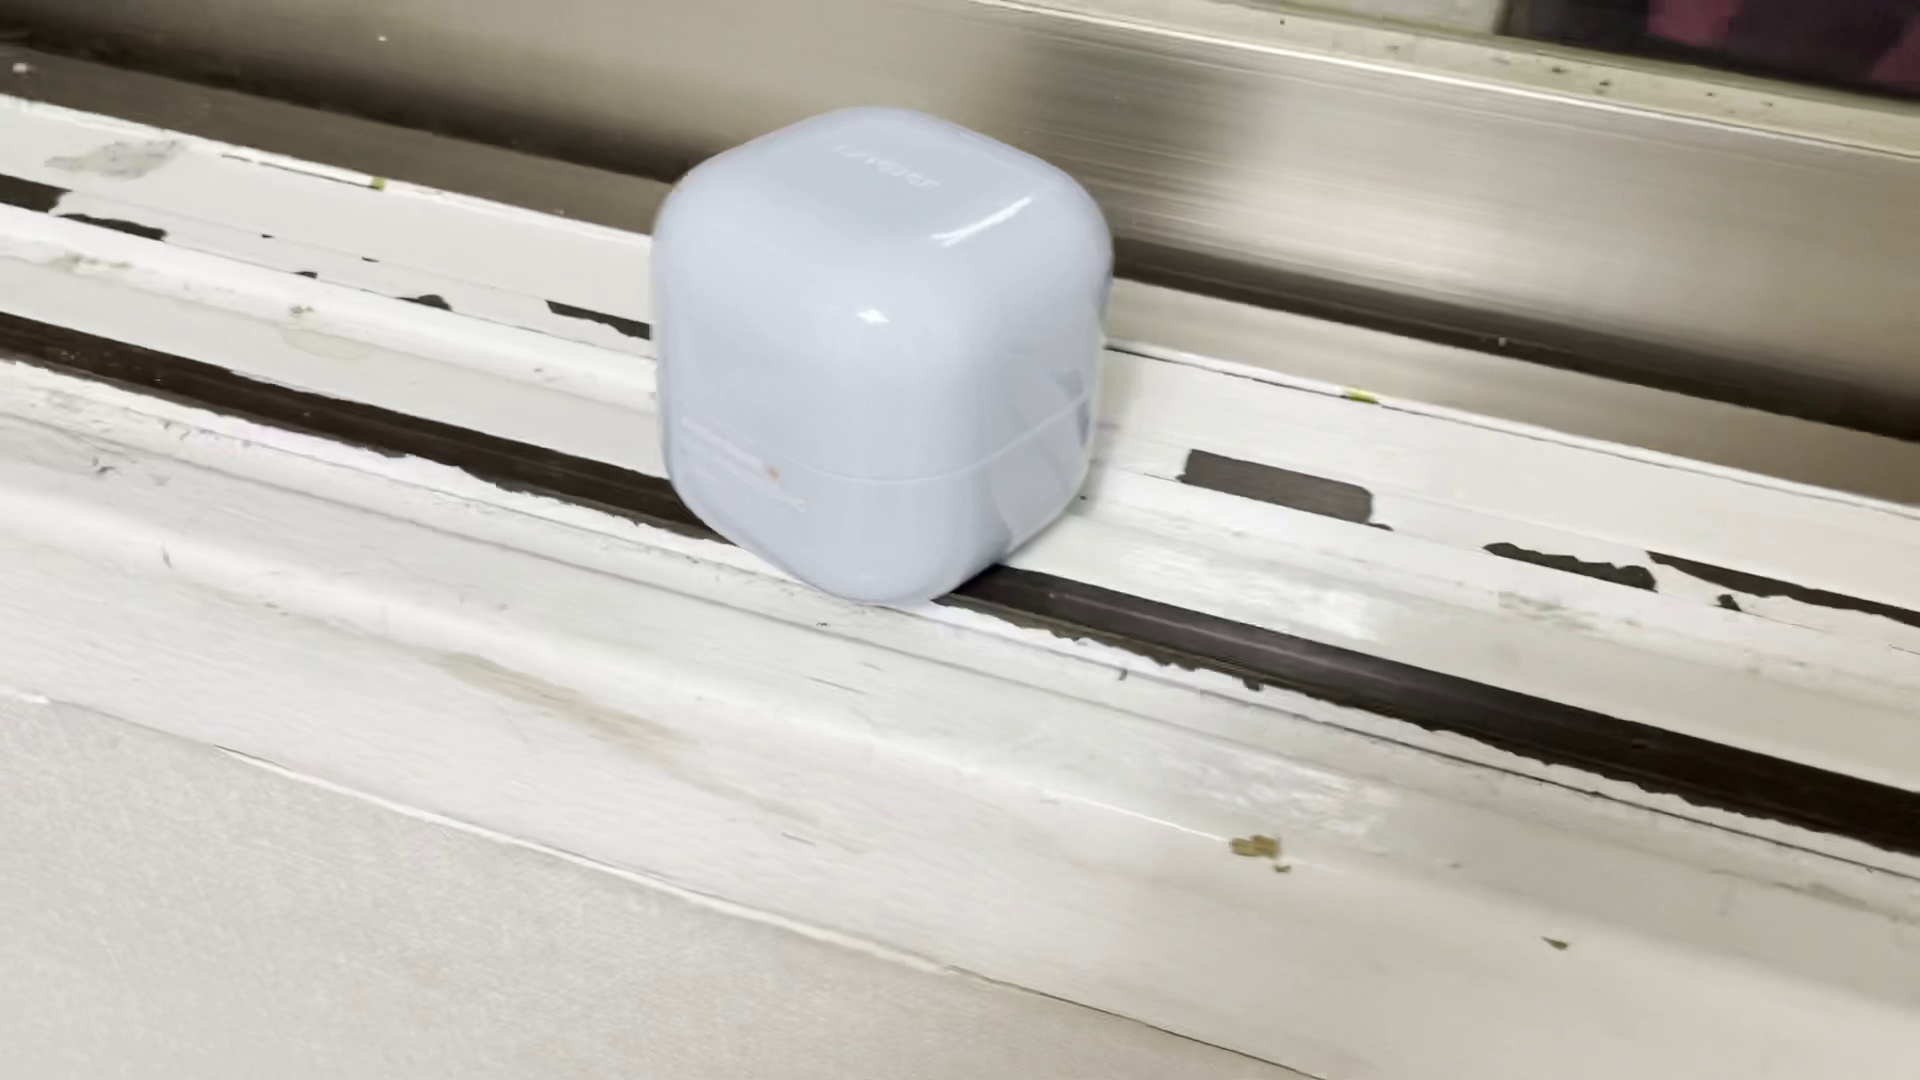cream: (647, 96, 1110, 609)
